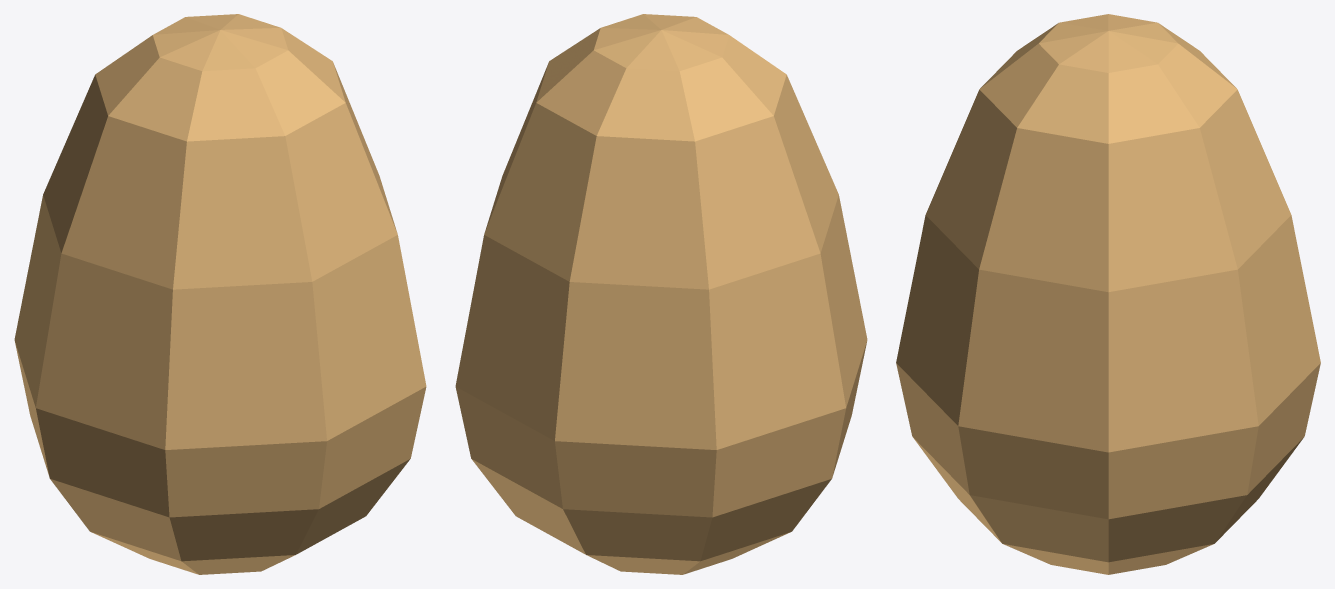
Rendered from egg.fbx.
3 renders of one model, left to right at view 1: azimuth 30°, elevation 25°; view 2: azimuth 150°, elevation 25°; view 3: azimuth 270°, elevation 25°, orthographic.
Visible parts, largest first — view 1: pSphere1; view 2: pSphere1; view 3: pSphere1.
Part boxes in pixels (x1,y1,x2,y2): pSphere1: [14, 14, 426, 574]; pSphere1: [455, 14, 867, 574]; pSphere1: [896, 14, 1320, 574].
Size of the model in its own units: 20 by 27.23 by 20.
